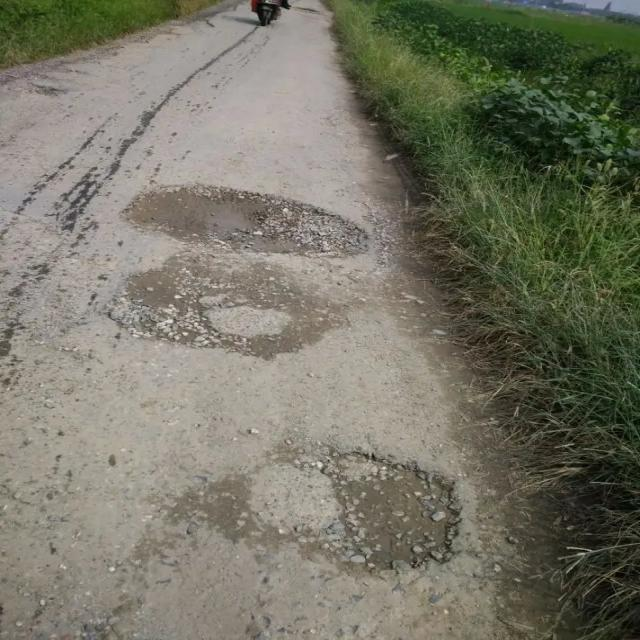Pothole: (180, 451, 458, 576), (127, 258, 343, 368), (122, 186, 363, 256)
